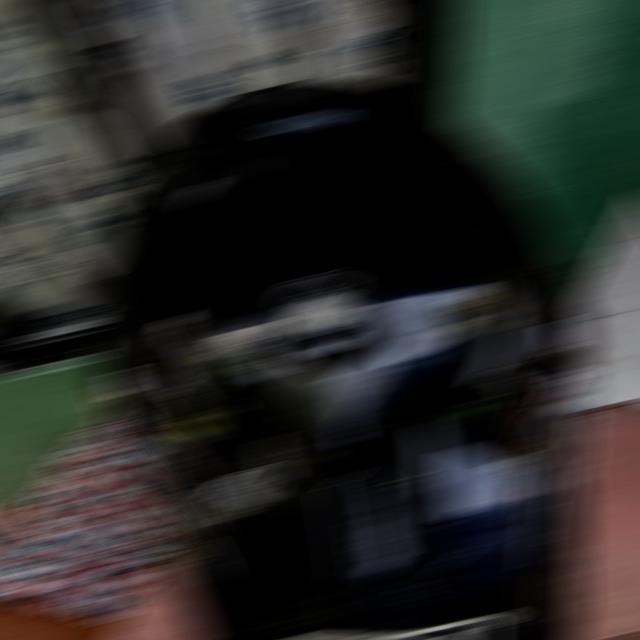With Helmet: (84, 81, 598, 638)
